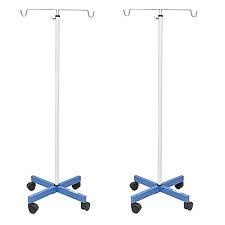Saline Stand: (122, 7, 197, 213), (19, 7, 94, 213)
